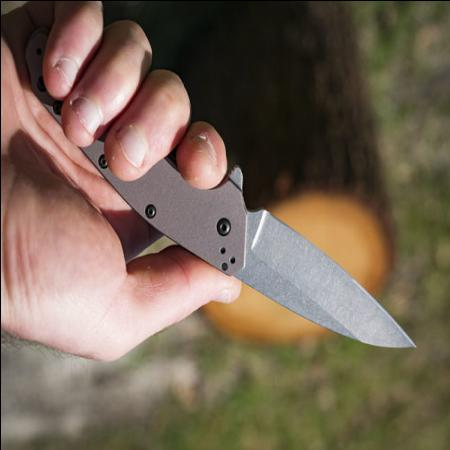long weapon: (127, 124, 424, 368)
